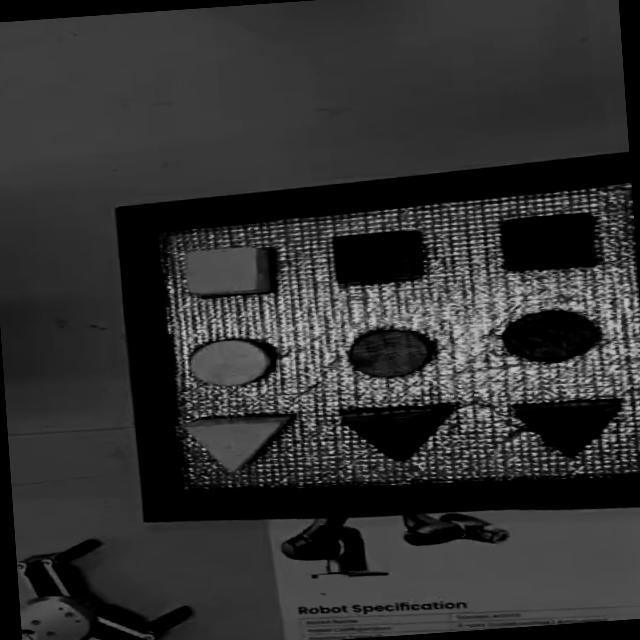bcircle: (498, 307, 598, 365)
bcube: (498, 210, 598, 272)
btriangle: (509, 397, 626, 462)
rcircle: (344, 324, 434, 382)
rcube: (330, 228, 424, 286)
rtriangle: (337, 404, 453, 466)
wb: (155, 179, 640, 497)
ycircle: (184, 335, 276, 390)
ycube: (180, 244, 278, 300)
ytriangle: (182, 411, 296, 477)
